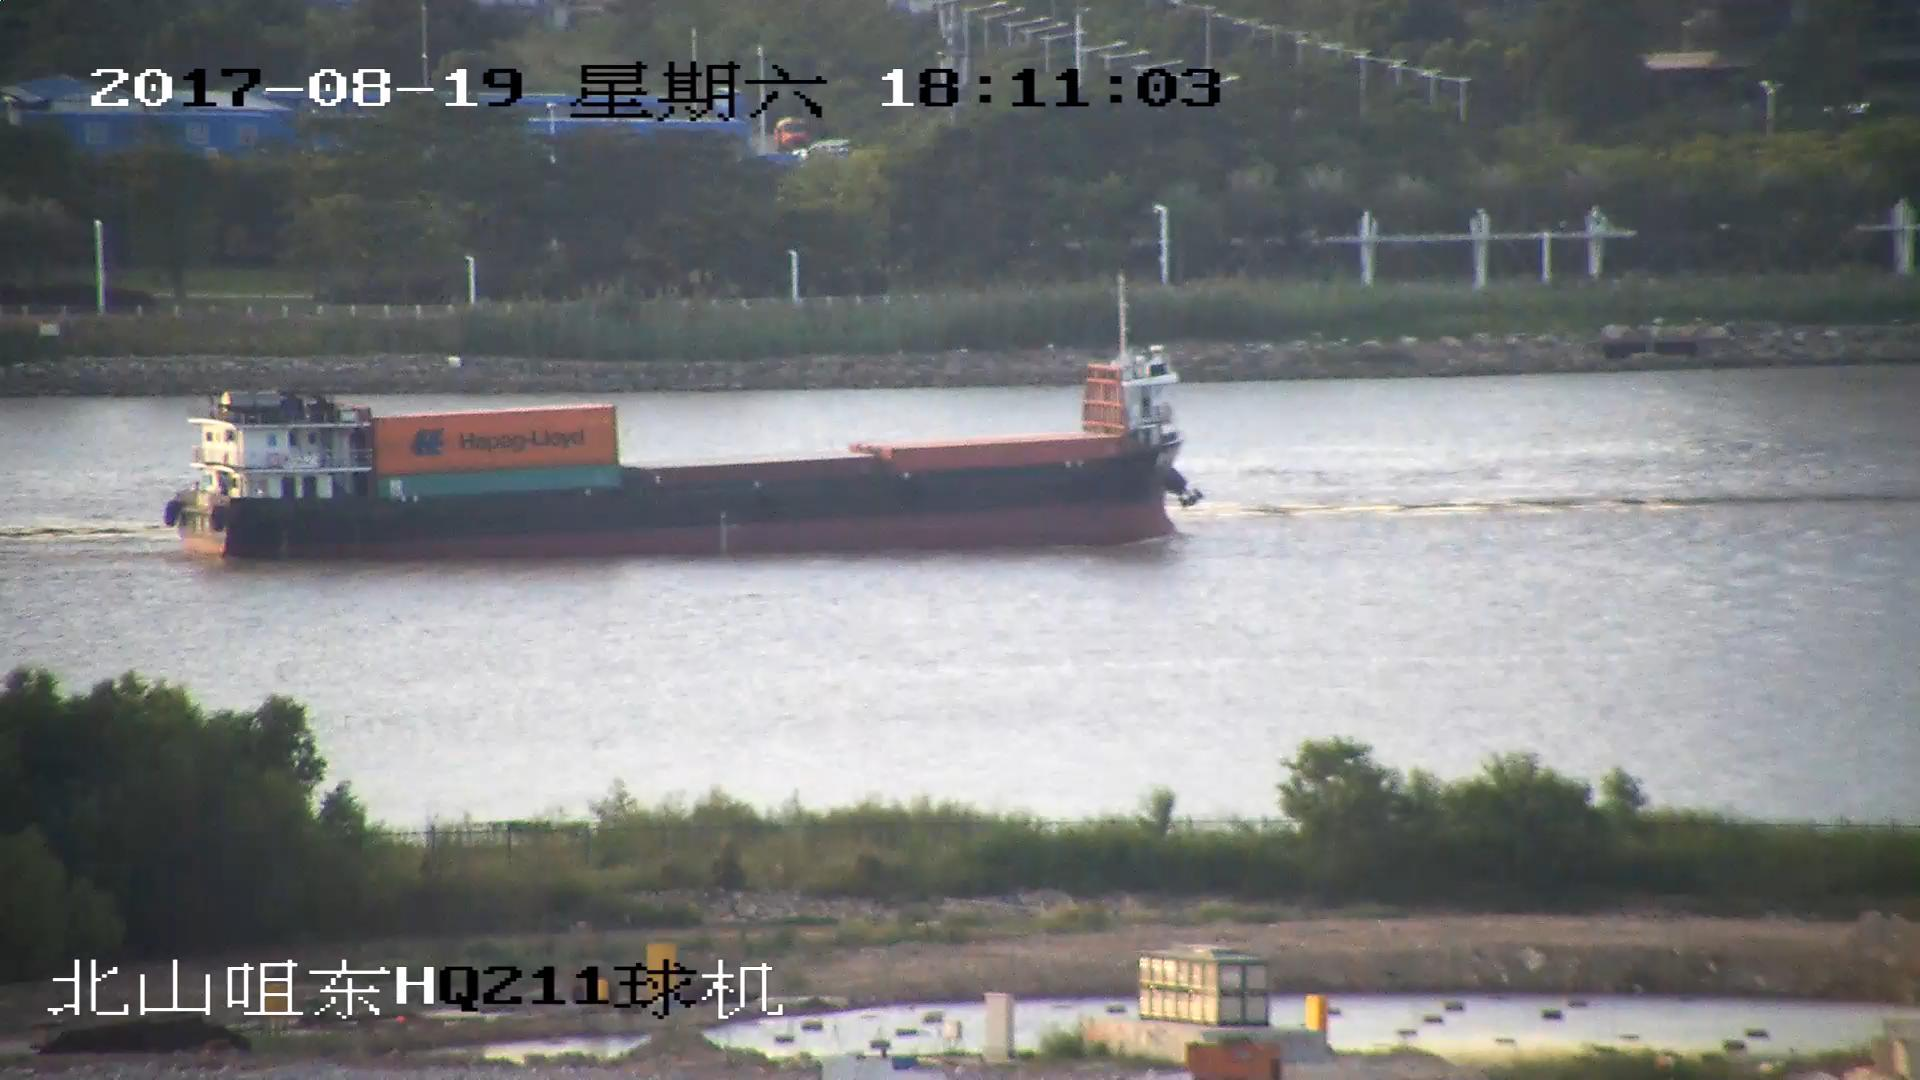Ship: (171, 281, 1203, 558)
